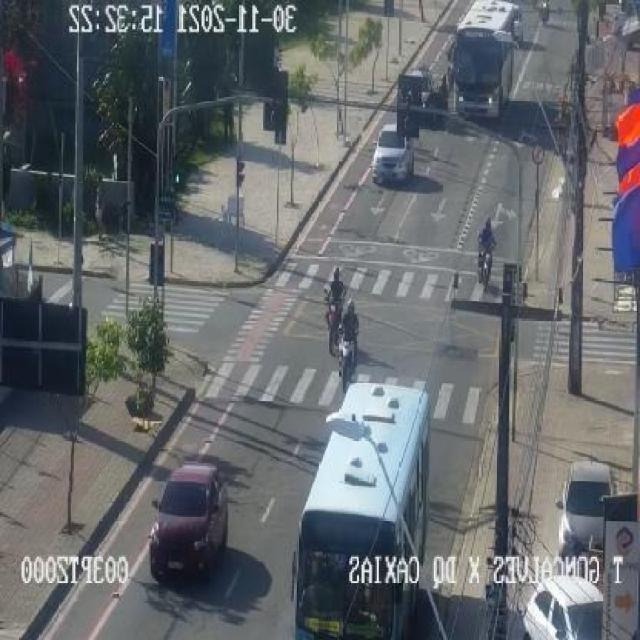Bus: (289, 379, 433, 640), (451, 1, 525, 120)
Car: (148, 463, 227, 582), (558, 462, 615, 557), (521, 574, 603, 640), (372, 121, 414, 185), (511, 1, 525, 44)
Cycle: (320, 289, 345, 355), (336, 327, 359, 392), (475, 237, 497, 289)
